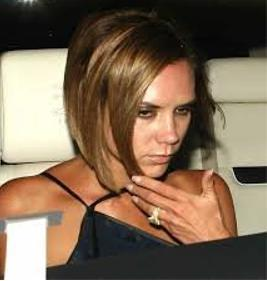Drunk: (123, 59, 192, 178)
